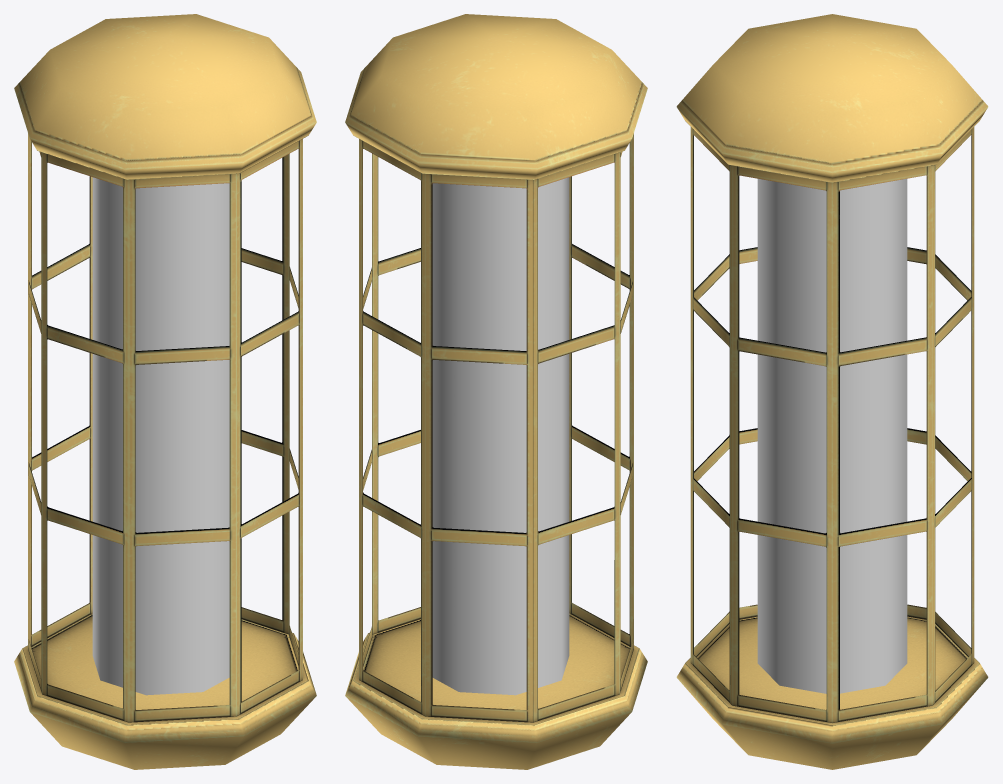
File: Lamp.fbx
The picture shows the model from 3 angles, left to right: view 1: azimuth 30°, elevation 25°; view 2: azimuth 150°, elevation 25°; view 3: azimuth 270°, elevation 25°; orthographic projection.
Visible parts, largest first — view 1: Lamo; view 2: Lamo; view 3: Lamo.
Boxes of the visible parts, <box> form: Lamo: <box>14,14,316,769</box>; Lamo: <box>345,14,647,769</box>; Lamo: <box>676,14,988,769</box>.
Size of the model in its own units: 1.08 by 2.68 by 1.08.
2 materials, 1 textured.
